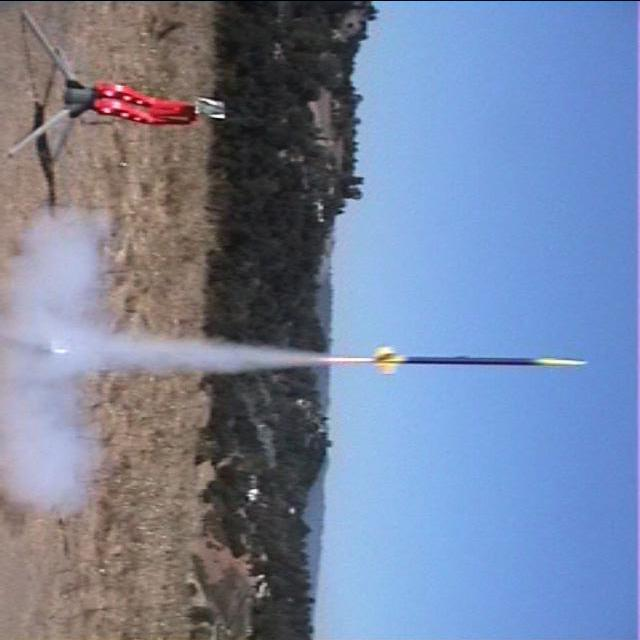Missile: (320, 346, 589, 373)
